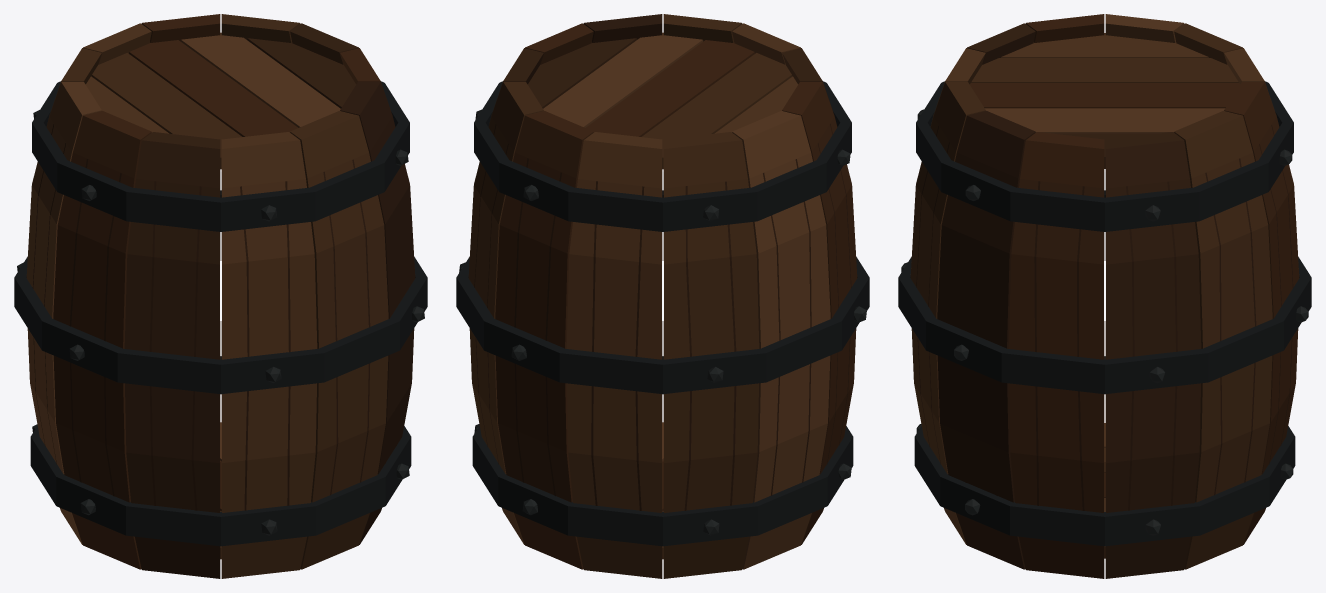
File: Barrel_Small.fbx
3 renders of one model, left to right at view 1: azimuth 30°, elevation 25°; view 2: azimuth 150°, elevation 25°; view 3: azimuth 270°, elevation 25°, orthographic.
Visible parts, largest first — view 1: Barrel_Small; view 2: Barrel_Small; view 3: Barrel_Small.
Part boxes in pixels (x1,y1,x2,y2): Barrel_Small: [14, 14, 427, 578]; Barrel_Small: [456, 14, 869, 578]; Barrel_Small: [898, 14, 1311, 578].
Bounding box in the file's own units: 0.636 × 0.73 × 0.636.
2 materials, 2 textured.
